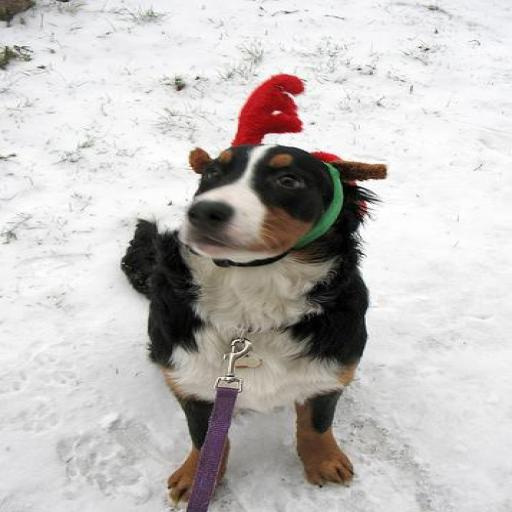dog_face: (154, 140, 381, 249)
